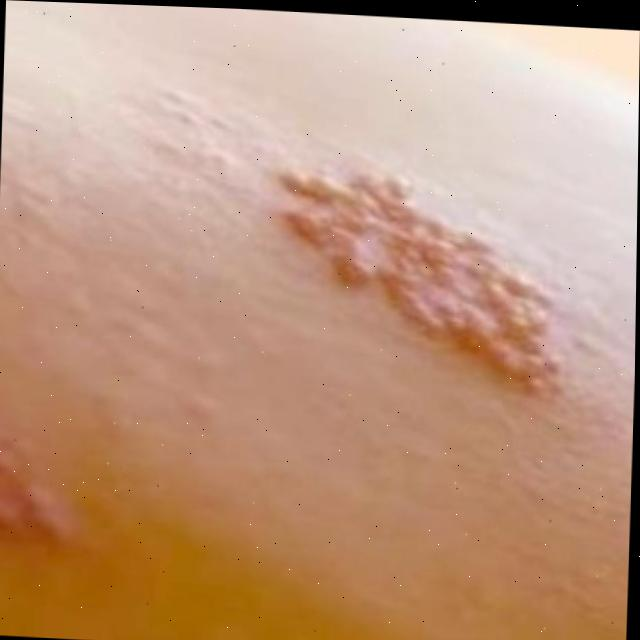Shingles: (269, 161, 562, 400), (0, 440, 63, 546)
